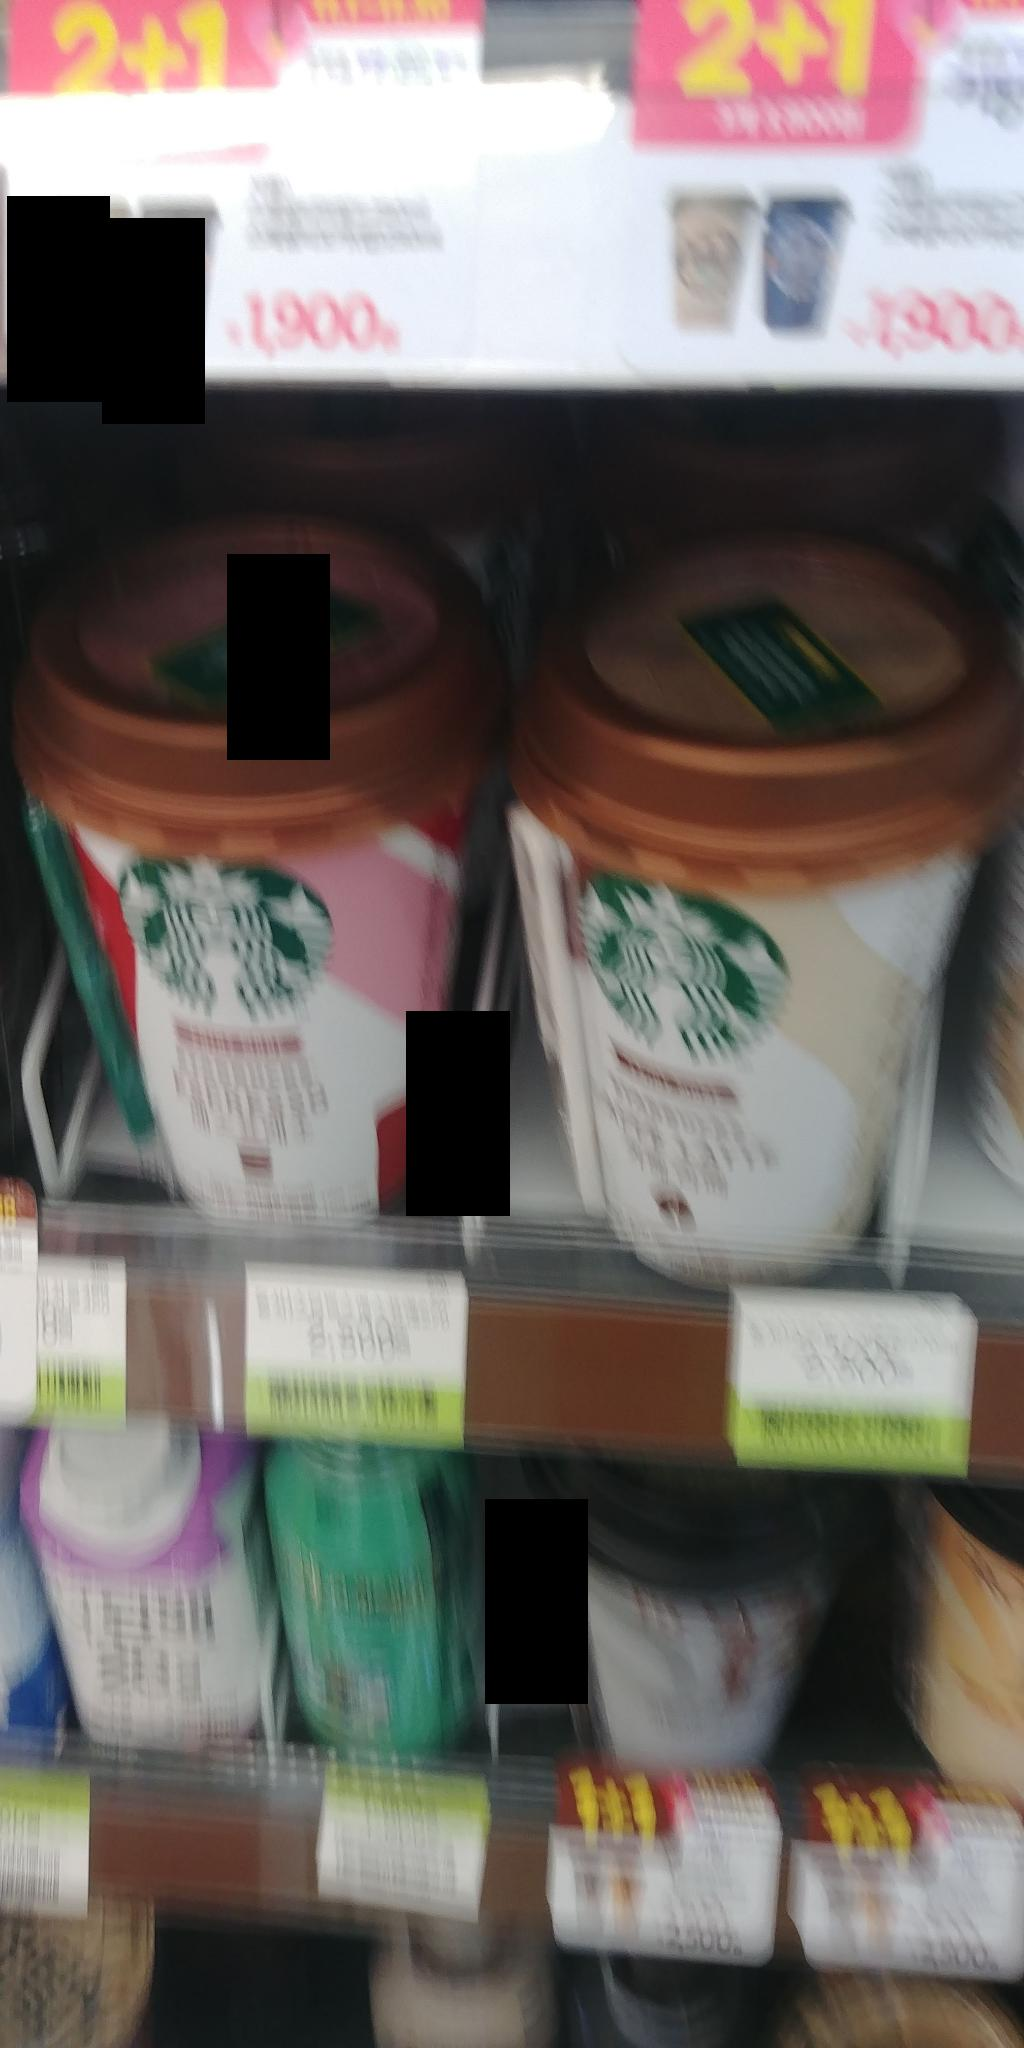starbucks_cafelatte: (508, 571, 991, 1262)
